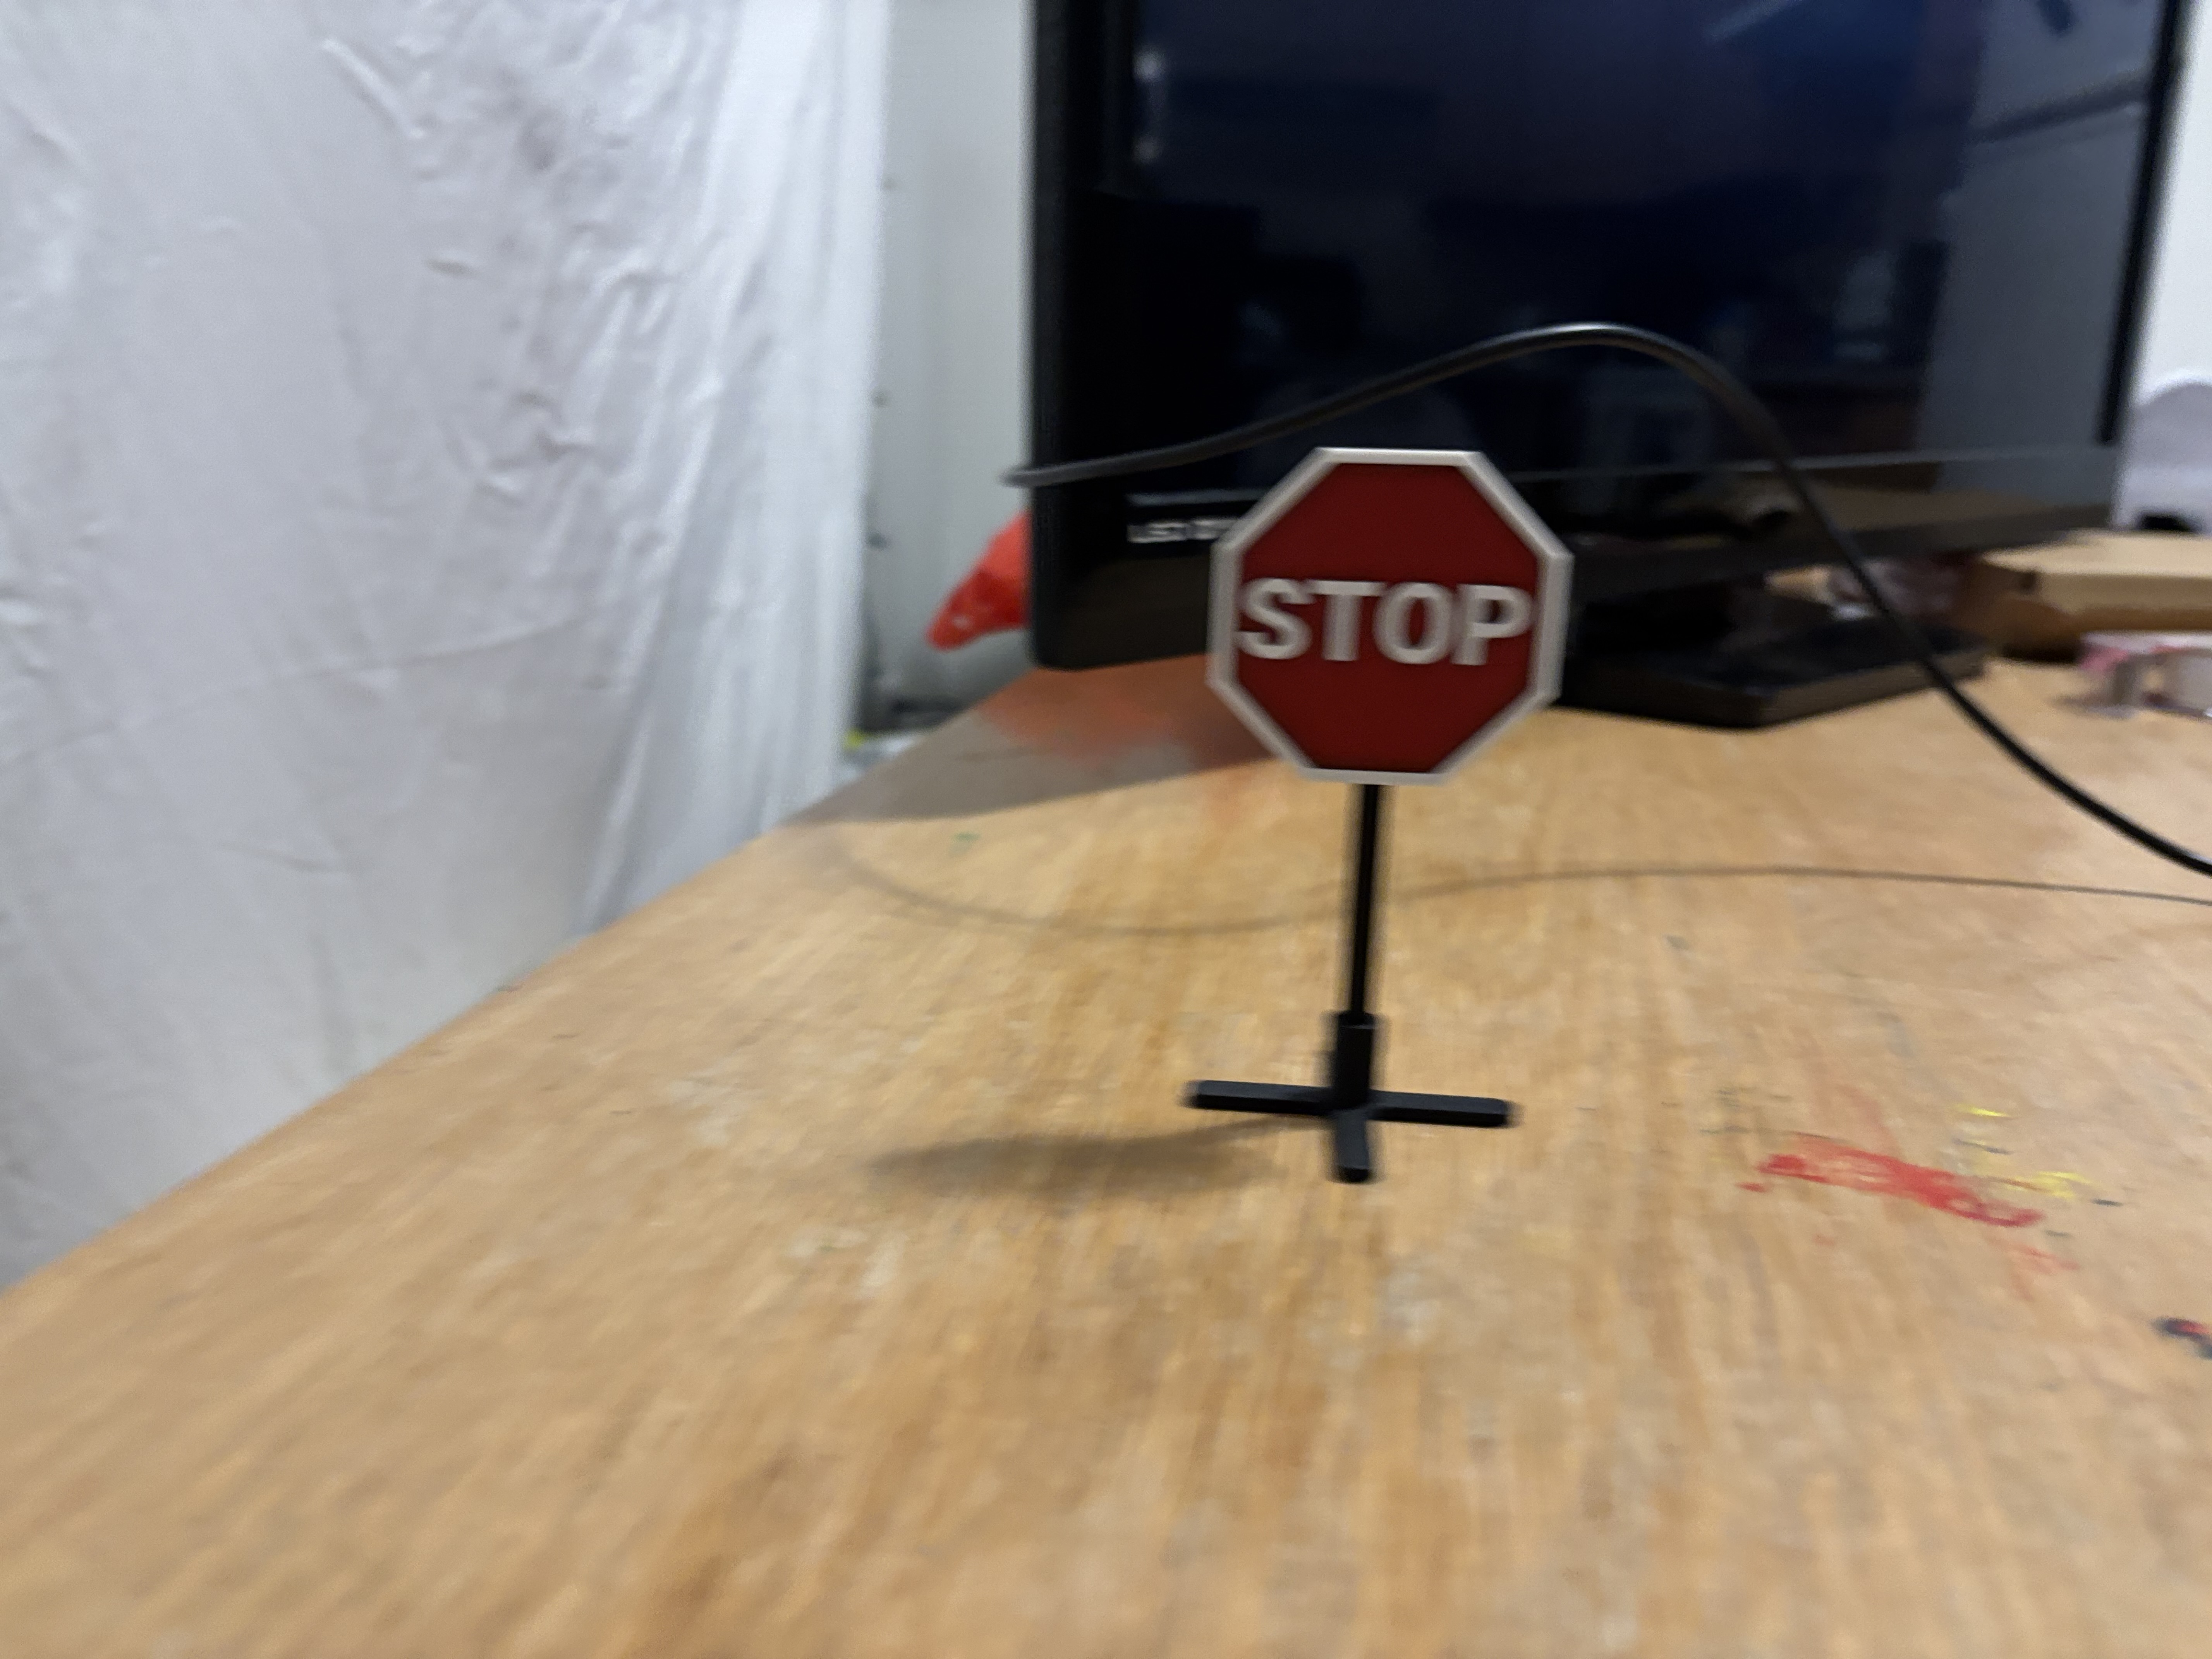sign_stop: (1202, 436, 1569, 758)
